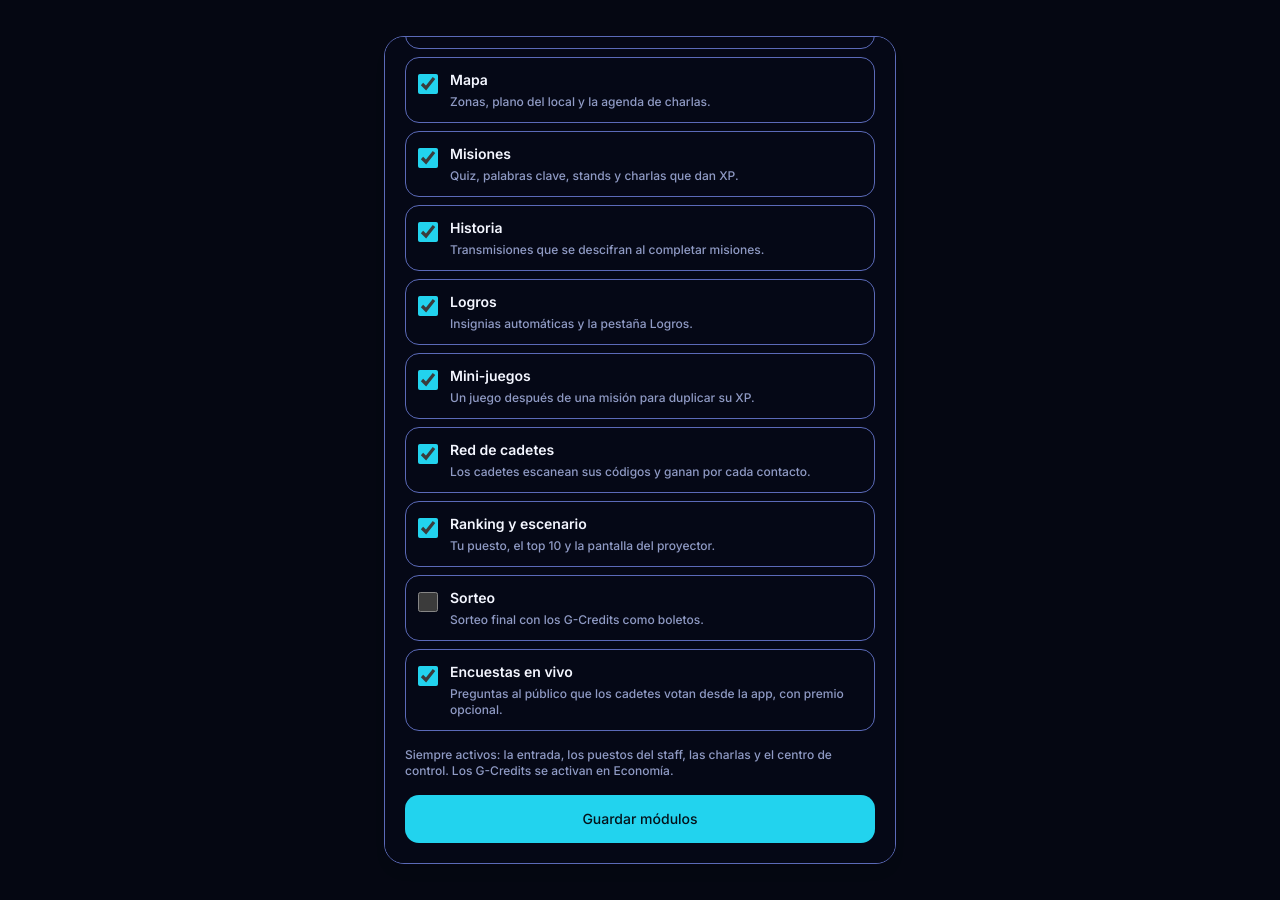
ModulesDialog › shows the reason when saving is refused
(page scrolled)
What coordinates should you click on to do the following:
click the button "Guardar módulos"
I would click on:
 (640, 819)
Its box is [405,795,875,843].
(page scrolled)
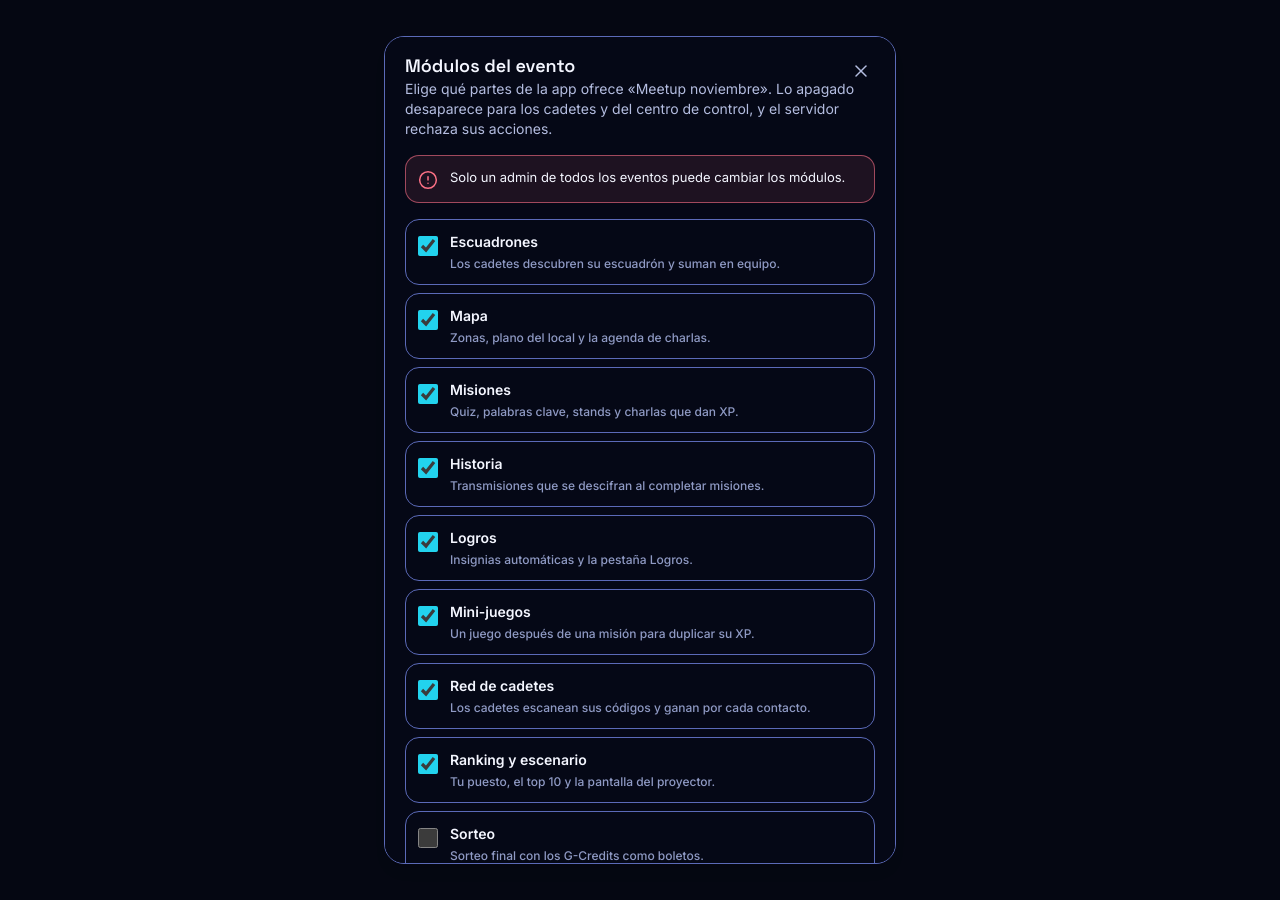
Check: the message reads "Solo un admin de todos los eventos puede cambiar los módulos.", box [450,169,845,185]
